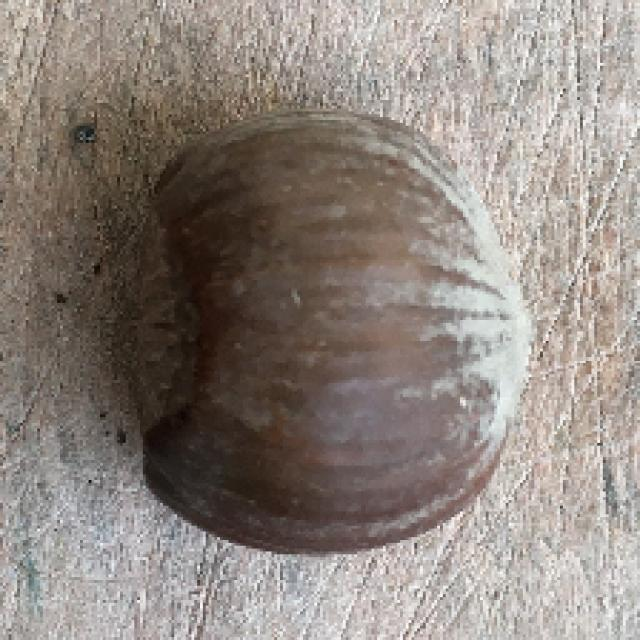damagedHazelnut: (95, 108, 538, 556)
